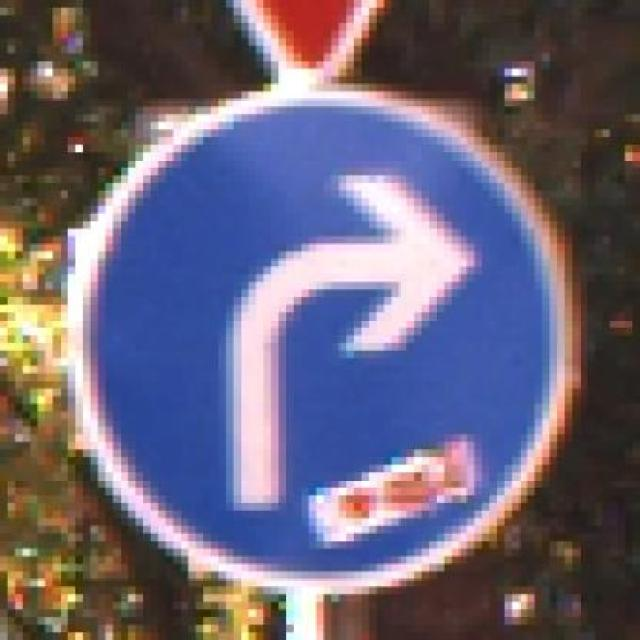Turn right ahead: (52, 84, 588, 610)
